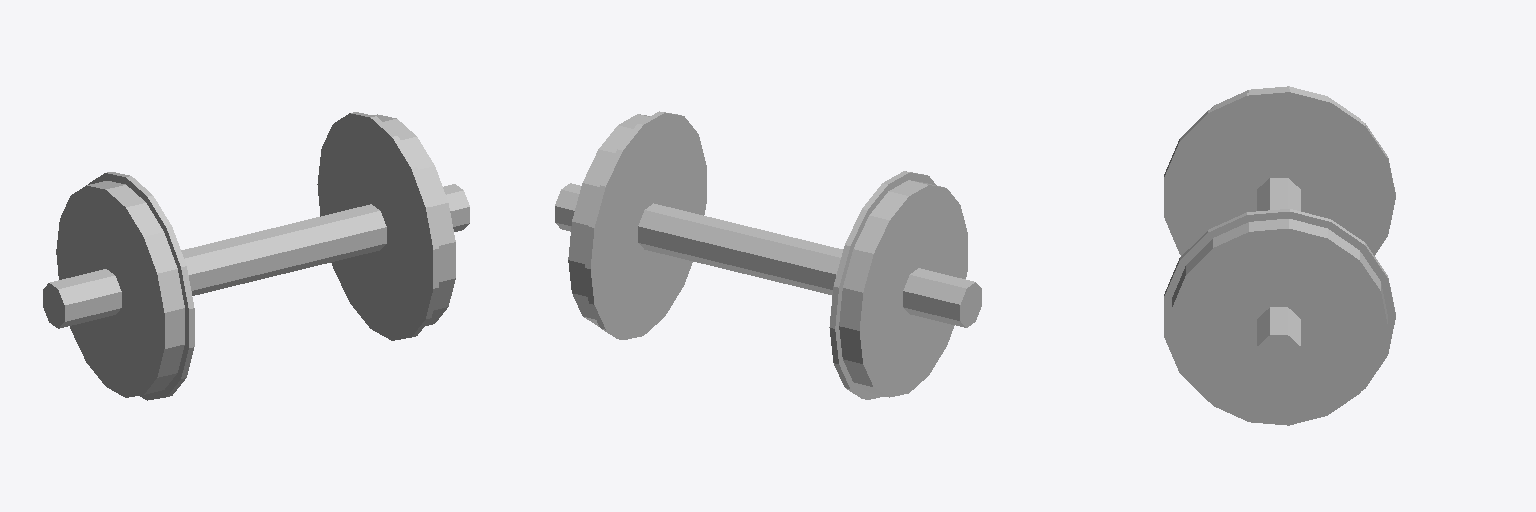
The model's file is df5_wheel.obj.
3 renders of one model, left to right at view 1: azimuth 30°, elevation 25°; view 2: azimuth 150°, elevation 25°; view 3: azimuth 270°, elevation 25°, orthographic.
Visible parts, largest first — view 1: cylinder_selection_selection_selection_selection_selection; view 2: cylinder_selection_selection_selection_selection_selection; view 3: cylinder_selection_selection_selection_selection_selection.
Boxes of the visible parts, x1=… form: cylinder_selection_selection_selection_selection_selection: x1=43, y1=112, x2=469, y2=400; cylinder_selection_selection_selection_selection_selection: x1=555, y1=111, x2=981, y2=399; cylinder_selection_selection_selection_selection_selection: x1=1164, y1=86, x2=1395, y2=425.
Bounding box in the file's own units: 2.29 × 1.14 × 1.13.